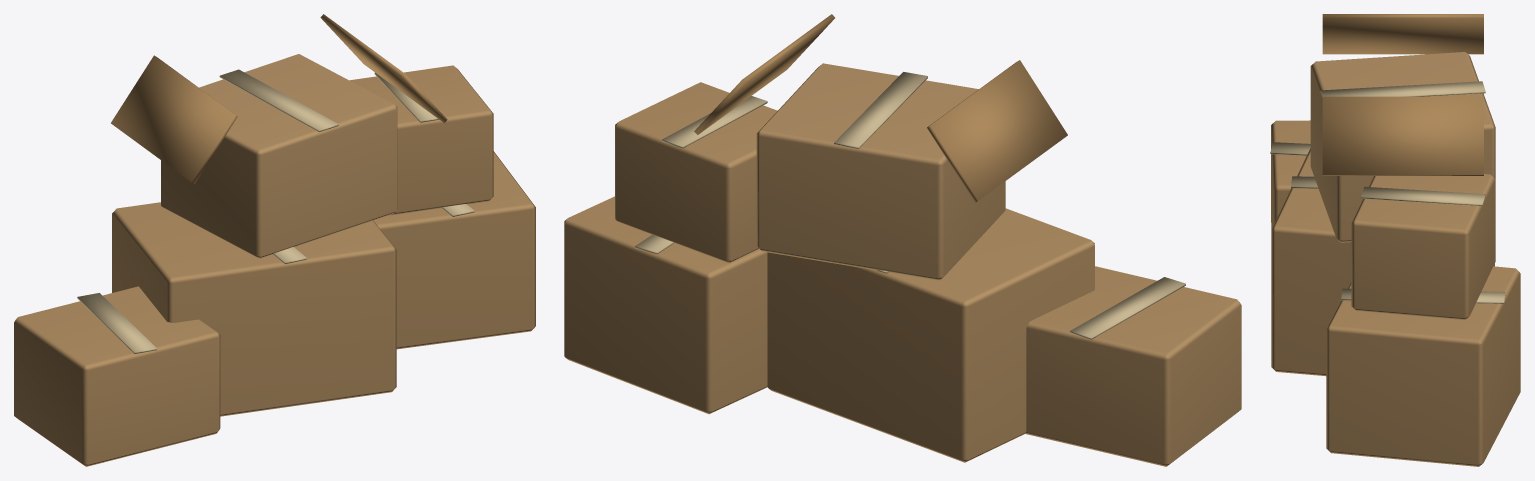
Rendered from box_pile.glb.
The picture shows the model from 3 angles, left to right: view 1: azimuth 30°, elevation 25°; view 2: azimuth 150°, elevation 25°; view 3: azimuth 270°, elevation 25°; orthographic projection. The views are drawn at different scales.
Visible parts, largest first — view 1: box_pile; view 2: box_pile; view 3: box_pile.
Part boxes in pixels (<box>): box_pile: <box>14,14,535,466</box>; box_pile: <box>564,14,1241,466</box>; box_pile: <box>1270,14,1520,466</box>.
Bounding box in the file's own units: 1.46 × 0.8021 × 0.6209.
